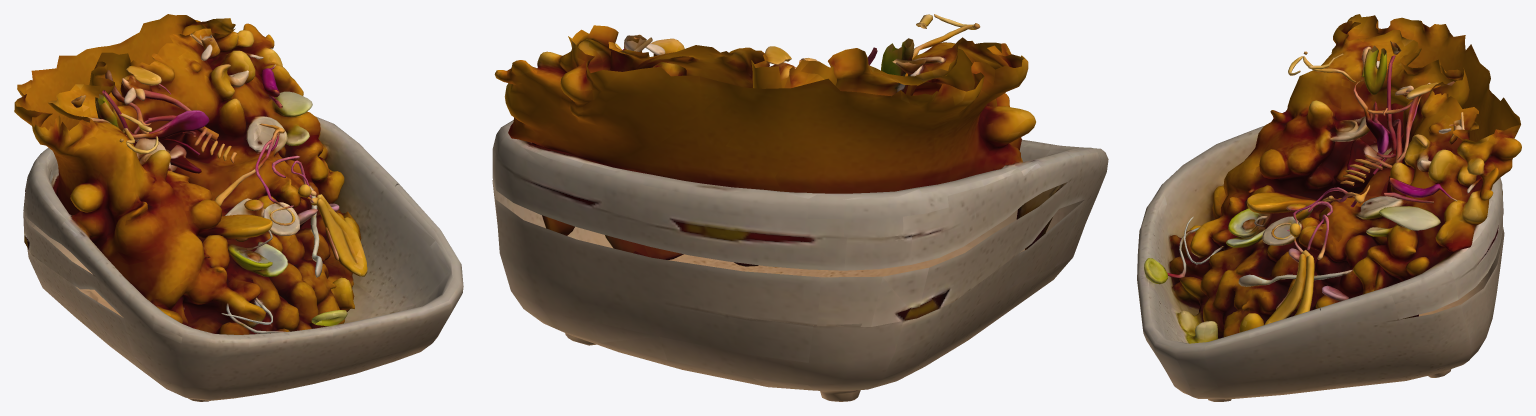
Rendered from corn-fritter.glb.
3 views of the same model, side by side, from view 1: azimuth 30°, elevation 25°; view 2: azimuth 150°, elevation 25°; view 3: azimuth 270°, elevation 25° (orthographic). The views are drawn at different scales.
Visible parts, largest first — view 1: tripo_node_278c5c5c-d4af-41bc-bc59-02ed427a9170; view 2: tripo_node_278c5c5c-d4af-41bc-bc59-02ed427a9170; view 3: tripo_node_278c5c5c-d4af-41bc-bc59-02ed427a9170.
Part boxes in pixels (x1=…): tripo_node_278c5c5c-d4af-41bc-bc59-02ed427a9170: x1=14, y1=14, x2=463, y2=401; tripo_node_278c5c5c-d4af-41bc-bc59-02ed427a9170: x1=492, y1=14, x2=1108, y2=401; tripo_node_278c5c5c-d4af-41bc-bc59-02ed427a9170: x1=1137, y1=14, x2=1521, y2=401.
Bounding box in the file's own units: 0.2 × 0.1393 × 0.1898.
1 material, 1 textured.
